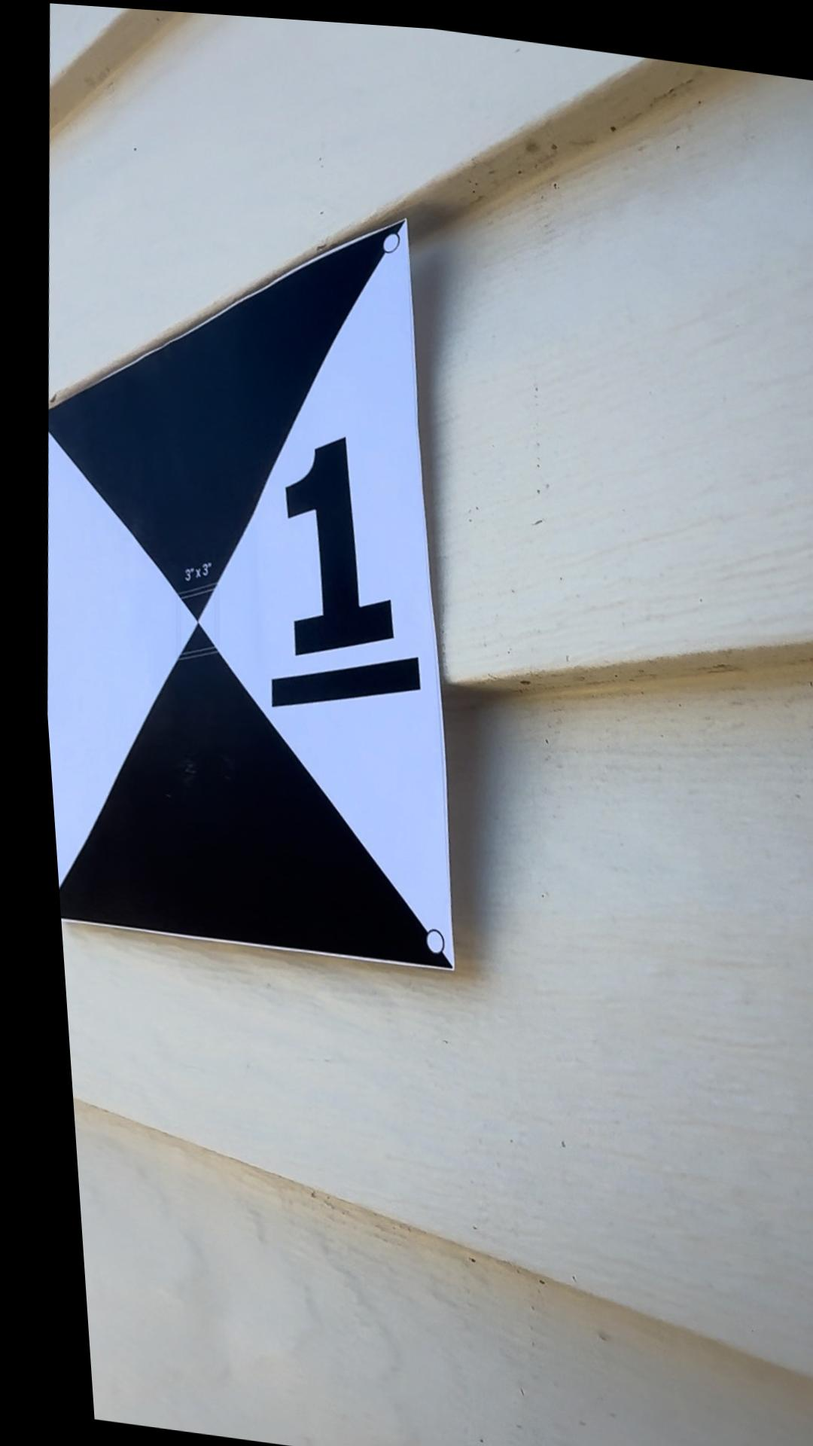target1: (55, 181, 473, 981)
